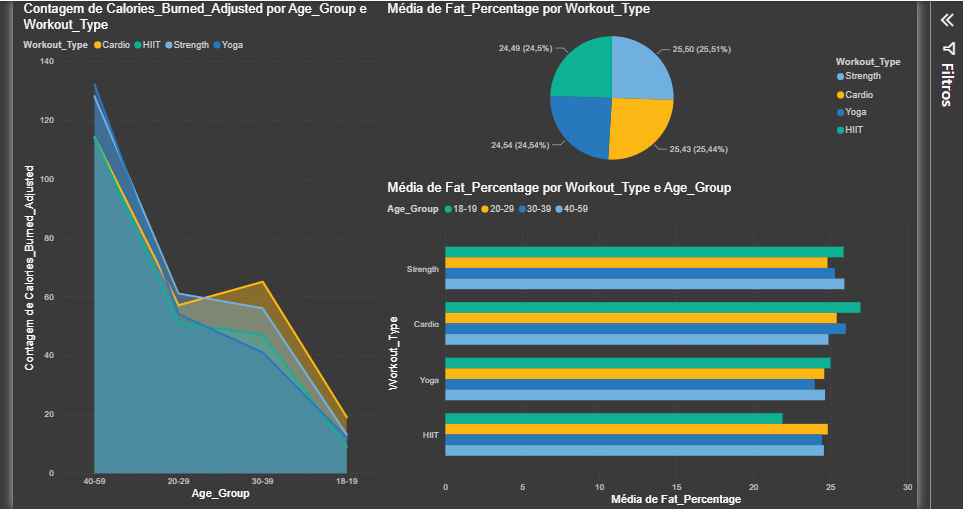

This screenshot's page, from the dashboard's own definition file:
{"tool":"powerbi","page":{"name":"Atv Praticada / Idade / Caloria Queimada","canvas":[1280,720],"ordinal":5},"visuals":[{"type":"areaChart","fields":{"Category":["gym_members_exercise_tracking.Age_Group"],"Y":["CountNonNull(gym_members_exercise_tracking.Calories_Burned_Adjusted)"],"Series":["gym_members_exercise_tracking.Workout_Type"]},"box":[9.9,0,515.9,711.5],"z":0},{"type":"clusteredBarChart","fields":{"Category":["gym_members_exercise_tracking.Workout_Type"],"Y":["Avg(gym_members_exercise_tracking.Fat_Percentage)"],"Series":["gym_members_exercise_tracking.Age_Group"]},"box":[525.8,253.7,754,466.3],"z":1000},{"type":"pieChart","fields":{"Category":["gym_members_exercise_tracking.Workout_Type"],"Y":["Avg(gym_members_exercise_tracking.Fat_Percentage)"]},"box":[525.8,0,754,253.7],"z":2000}]}

Visuals, with their boxes on the page's 1280x720 design canvas (x1, y1, x2, y2). These are canvas units, not pixel positions in the 963x509 screenshot, which may show the page scaled, cropped or inside an application window:
areaChart - gym_members_exercise_tracking.Age_Group x CountNonNull(gym_members_exercise_tracking.Calories_Burned_Adjusted): 10, 0, 526, 712
clusteredBarChart - gym_members_exercise_tracking.Workout_Type x Avg(gym_members_exercise_tracking.Fat_Percentage): 526, 254, 1280, 720
pieChart - gym_members_exercise_tracking.Workout_Type x Avg(gym_members_exercise_tracking.Fat_Percentage): 526, 0, 1280, 254
